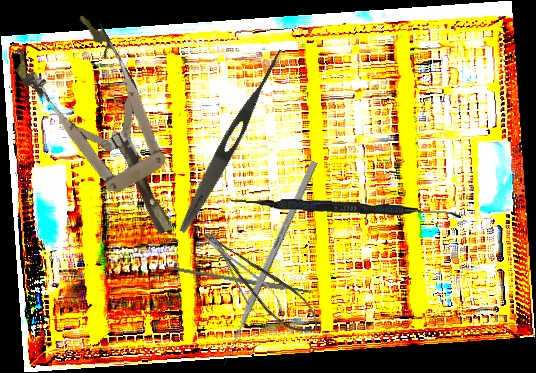Dressing Forceps: (174, 43, 288, 237)
Micro Scissor: (200, 213, 327, 347), (195, 224, 295, 334)
Pusher: (220, 159, 318, 367)
Scalpel Handle: (163, 264, 313, 296)
Spatula Surgical: (230, 196, 462, 219)
Speculum: (6, 6, 208, 257)
